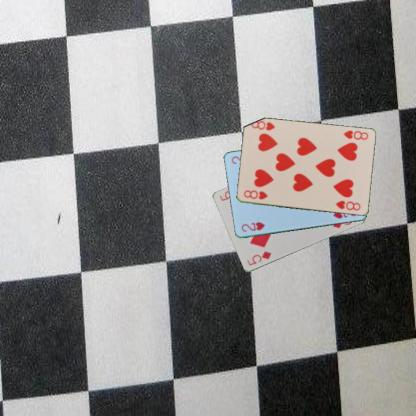2h: (239, 219, 266, 233)
5d: (245, 249, 272, 267)
8h: (340, 128, 370, 141), (241, 188, 269, 201)
